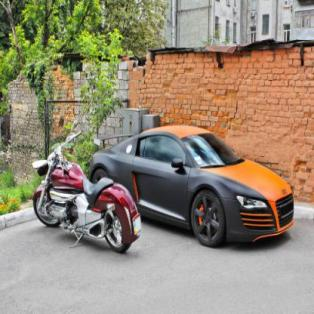Motocicleta: (26, 119, 145, 257)
